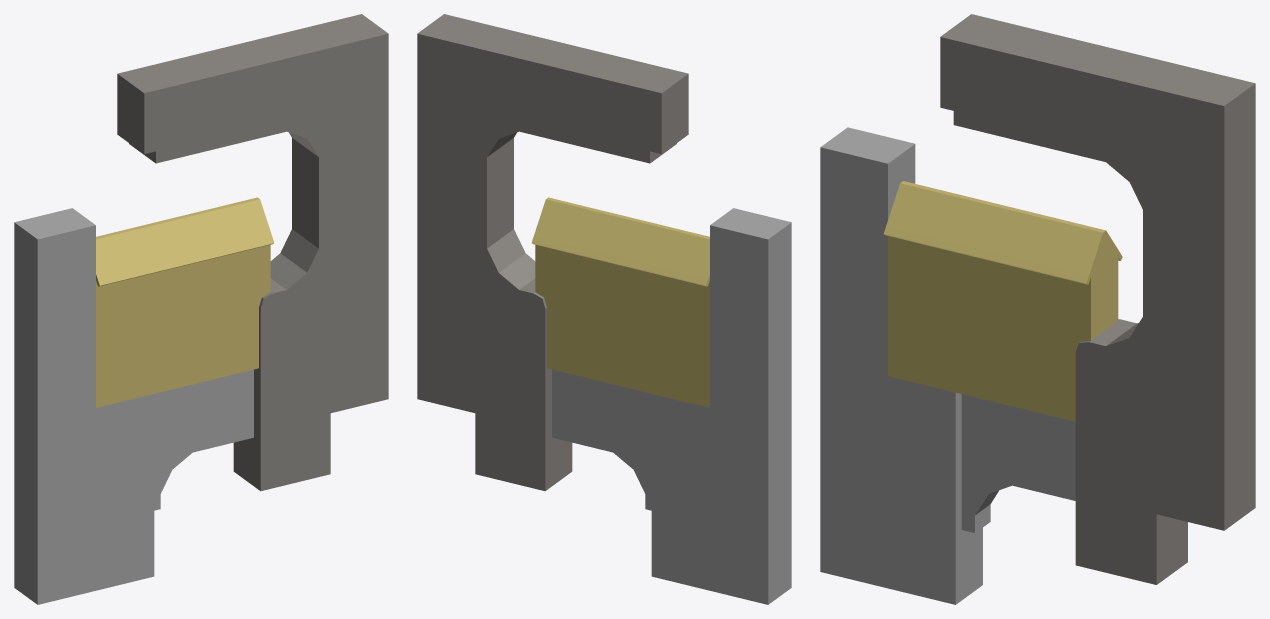
Rendered from clifftest.fbx.
3 views of the same model, side by side, from view 1: azimuth 30°, elevation 25°; view 2: azimuth 150°, elevation 25°; view 3: azimuth 330°, elevation 25° (orthographic). The views are drawn at different scales.
Visible parts, largest first — view 1: pCube47, pCube46, pCube37, pCube35, pCube36, pCube38, pCube45, pCube30, pCube44, pCube31, pCube33, pCube17 (+29 smaller); view 2: pCube47, pCube46, pCube37, pCube35, pCube36, pCube38, pCube45, pCube30, pCube44, pCube31, pCube33, pCube17 (+29 smaller); view 3: pCube47, pCube35, pCube46, pCube20, pCube21, pCube22, pCube25, pCube34, pCube38, pCube36, pCube37, pCube32 (+29 smaller).
Boxes of the visible parts, x1,y1,x2,y2 form: pCube47: (96,197,274,286); pCube46: (14,208,95,300); pCube37: (187,42,272,136); pCube35: (304,14,388,108); pCube36: (246,28,330,122); pCube38: (129,56,213,151); pCube45: (14,283,95,360); pCube30: (14,466,95,543); pCube44: (14,344,95,421); pCube31: (14,405,95,482); pCube33: (14,527,95,604); pCube17: (270,214,330,305); pCube47: (531,197,709,286); pCube46: (710,208,791,300); pCube37: (533,42,618,136); pCube35: (417,14,501,108); pCube36: (475,28,559,122); pCube38: (592,56,676,151); pCube45: (710,283,791,360); pCube30: (710,466,791,543); pCube44: (710,344,791,421); pCube31: (710,405,791,482); pCube33: (710,527,791,604); pCube17: (475,214,535,305); pCube47: (883,181,1122,284); pCube35: (1156,67,1255,176); pCube46: (820,127,915,233); pCube20: (1156,366,1255,459); pCube21: (1156,437,1255,530); pCube22: (1156,296,1255,389); pCube25: (1156,225,1255,318); pCube34: (1156,154,1255,247); pCube38: (953,17,1052,127); pCube36: (1089,50,1187,160); pCube37: (1021,34,1119,143); pCube32: (888,517,982,604).
Size of the model in its own units: 60 by 80 by 9.28.
